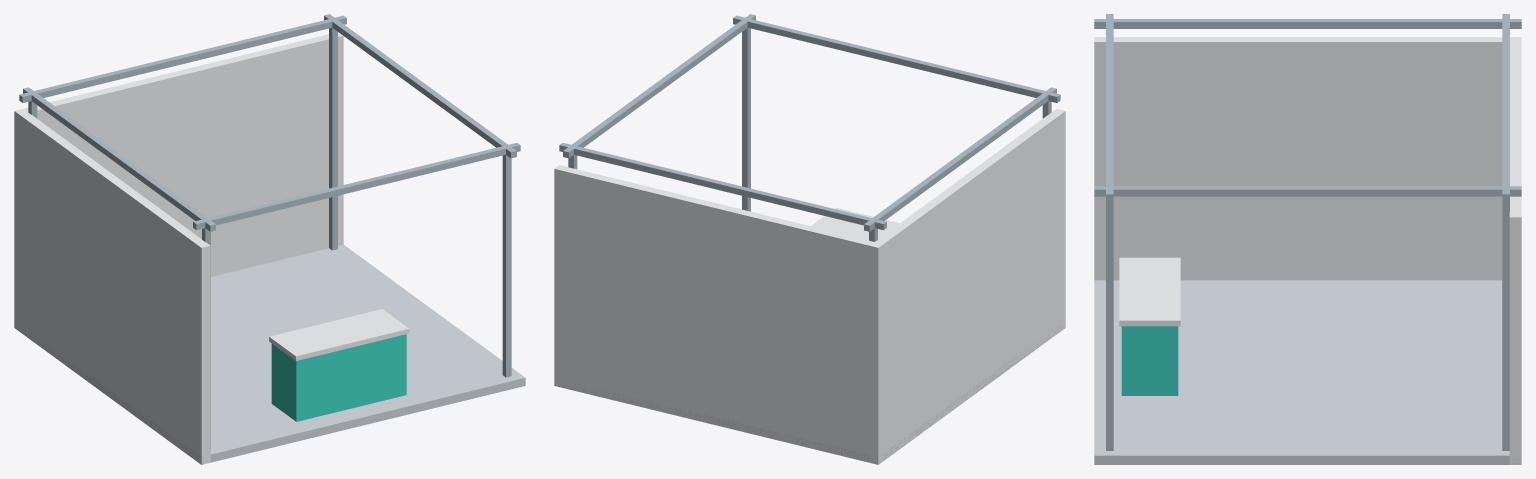
The picture shows the model from 3 angles, left to right: view 1: azimuth 30°, elevation 25°; view 2: azimuth 150°, elevation 25°; view 3: azimuth 270°, elevation 25°; orthographic projection. The views are drawn at different scales.
Visible parts, largest first — view 1: Exhibition Booth Concept; view 2: Exhibition Booth Concept; view 3: Exhibition Booth Concept.
Part boxes in pixels (bbox=[...]): Exhibition Booth Concept: bbox=[14, 14, 525, 464]; Exhibition Booth Concept: bbox=[554, 14, 1065, 464]; Exhibition Booth Concept: bbox=[1094, 14, 1521, 464].
Bounding box in the file's own units: 5 × 3.49 × 5.
